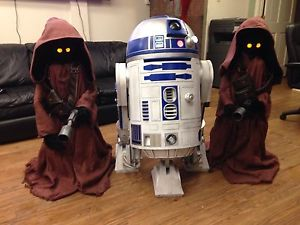r2d2: (115, 16, 211, 197)
